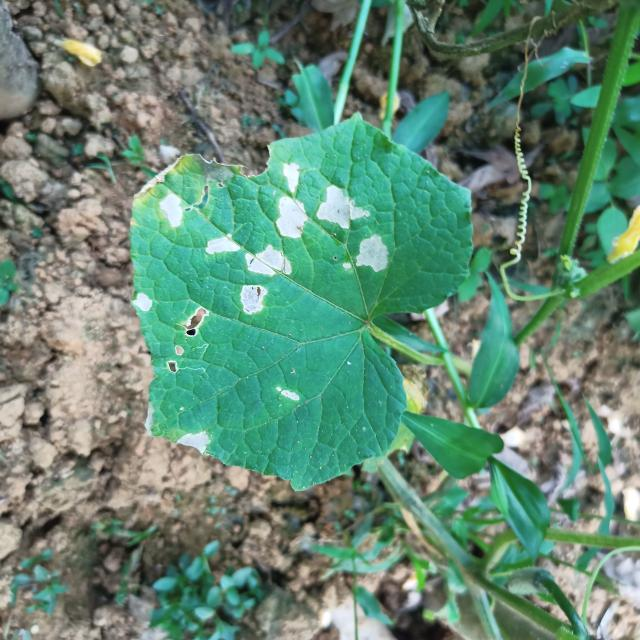disease_cucumber: (239, 242, 290, 318), (160, 306, 210, 378), (274, 163, 309, 239), (317, 184, 372, 232), (339, 232, 391, 276), (160, 189, 188, 231), (202, 232, 242, 258), (178, 428, 211, 454), (270, 386, 300, 406), (133, 290, 154, 315)
